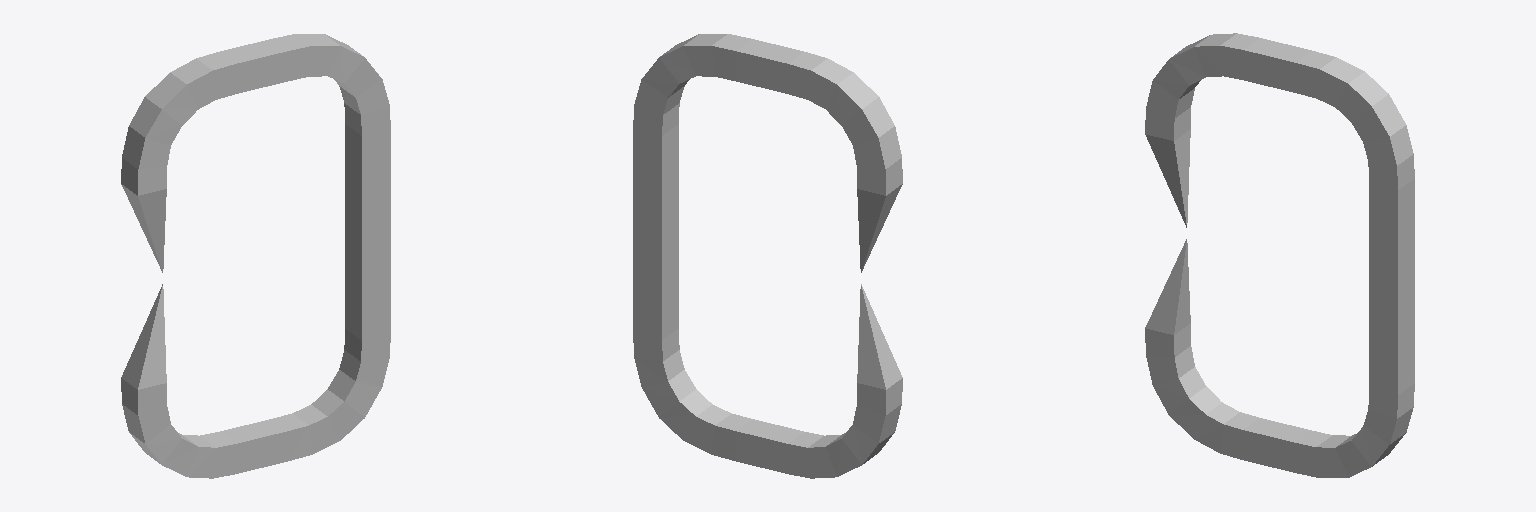
The model's file is staple.obj.
3 renders of one model, left to right at view 1: azimuth 30°, elevation 25°; view 2: azimuth 150°, elevation 25°; view 3: azimuth 330°, elevation 25°, orthographic.
Visible parts, largest first — view 1: staple; view 2: staple; view 3: staple.
Boxes of the visible parts, <box> form: staple: <box>121,34,390,478</box>; staple: <box>633,34,902,478</box>; staple: <box>1145,33,1414,477</box>.
Size of the model in its own units: 0.0069 by 0.0107 by 0.0008.